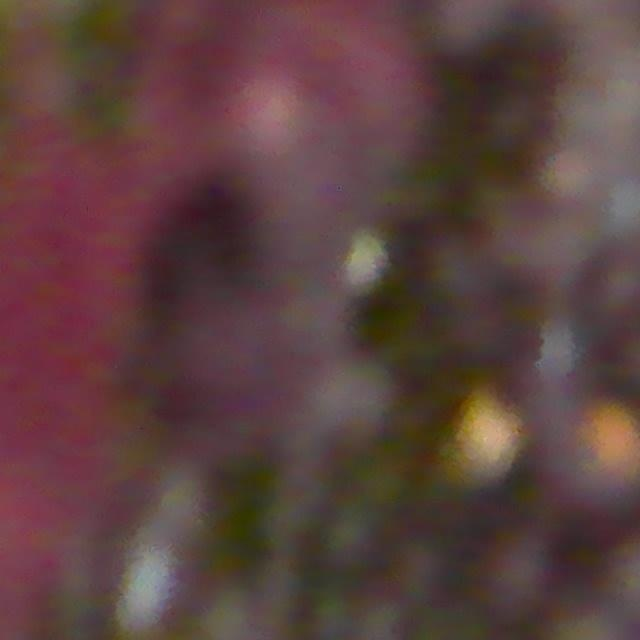SeaGrape: (475, 548, 550, 625)
